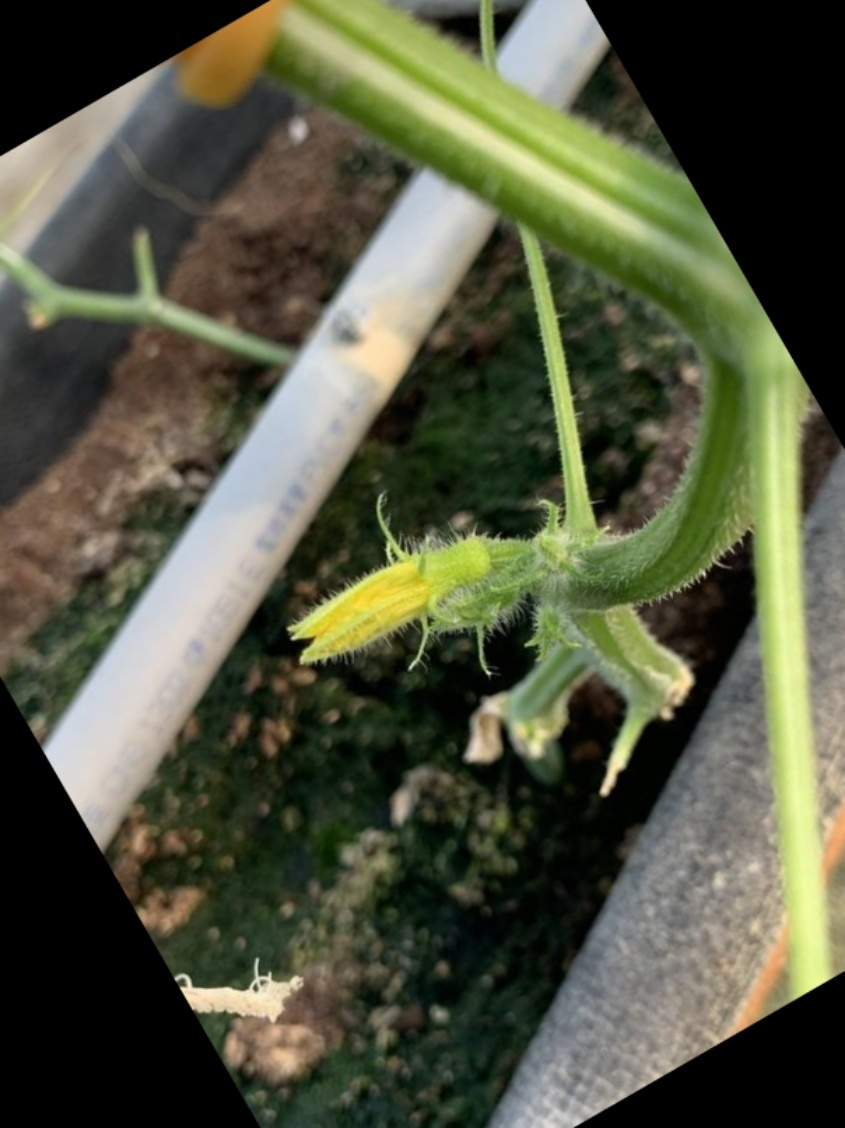bud: (280, 530, 534, 680)
